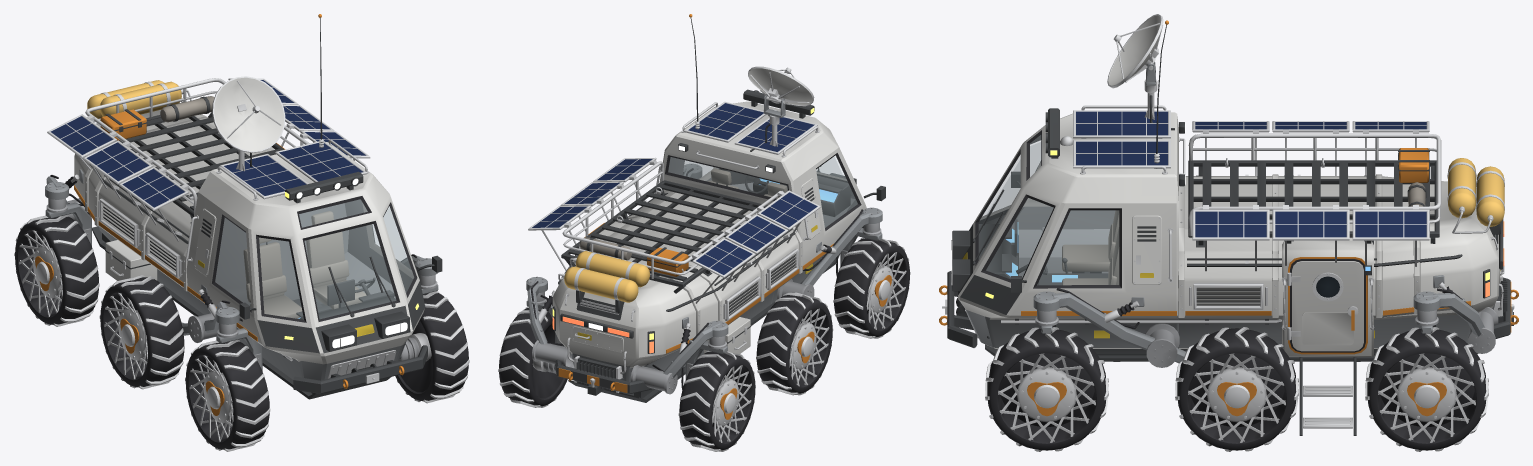
The model's file is rover.glb.
3 renders of one model, left to right at view 1: azimuth 30°, elevation 25°; view 2: azimuth 150°, elevation 25°; view 3: azimuth 270°, elevation 25°, orthographic. The views are drawn at different scales.
Parts seen in each view (by area): view 1: rover_mesh, wheel_MR_mesh, wheel_FR_mesh, wheel_RR_mesh, wheel_FL_mesh, dish_mesh, steer_RR_mesh, steer_FR_mesh, steer_FL_mesh; view 2: rover_mesh, wheel_MR_mesh, wheel_RR_mesh, wheel_FR_mesh, wheel_RL_mesh, dish_mesh, steer_RR_mesh, steer_FR_mesh; view 3: rover_mesh, wheel_ML_mesh, wheel_RL_mesh, wheel_FL_mesh, dish_mesh.
Part boxes in pixels (left/top/right/bottom): rover_mesh: left=45, top=14, right=442, bottom=399; wheel_MR_mesh: left=99, top=275, right=184, bottom=389; wheel_FR_mesh: left=185, top=339, right=270, bottom=451; wheel_RR_mesh: left=14, top=215, right=99, bottom=326; wheel_FL_mesh: left=395, top=291, right=469, bottom=403; dish_mesh: left=212, top=76, right=285, bottom=152; steer_RR_mesh: left=45, top=193, right=91, bottom=246; steer_FR_mesh: left=216, top=318, right=262, bottom=371; steer_FL_mesh: left=392, top=274, right=438, bottom=361; rover_mesh: left=526, top=14, right=885, bottom=402; wheel_MR_mesh: left=756, top=292, right=833, bottom=395; wheel_RR_mesh: left=678, top=350, right=755, bottom=451; wheel_FR_mesh: left=833, top=237, right=910, bottom=338; wheel_RL_mesh: left=498, top=306, right=567, bottom=407; dish_mesh: left=748, top=66, right=814, bottom=117; steer_RR_mesh: left=681, top=336, right=727, bottom=389; steer_FR_mesh: left=836, top=222, right=882, bottom=276; rover_mesh: left=939, top=20, right=1518, bottom=435; wheel_ML_mesh: left=1175, top=327, right=1298, bottom=451; wheel_RL_mesh: left=1365, top=327, right=1488, bottom=451; wheel_FL_mesh: left=985, top=327, right=1108, bottom=451; dish_mesh: left=1107, top=14, right=1163, bottom=88.
Size of the model in its own units: 3 by 4.37 by 5.8.
